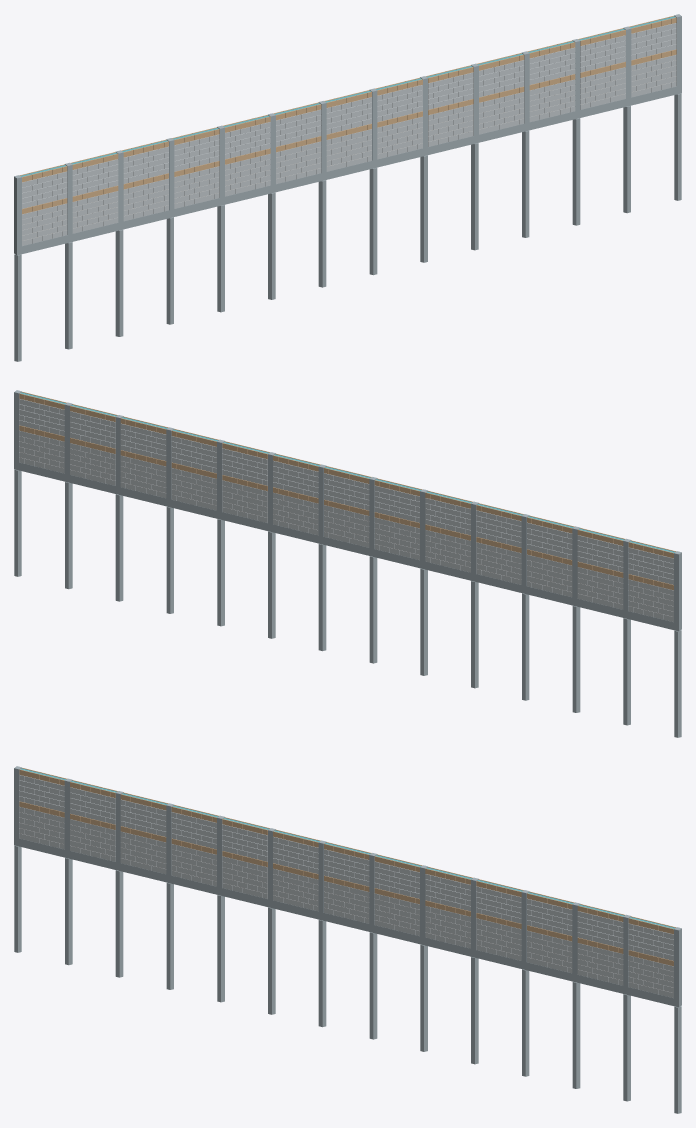
Rendered from muro-maquete.glb.
3 renders of one model, top to bottom at view 1: azimuth 30°, elevation 25°; view 2: azimuth 150°, elevation 25°; view 3: azimuth 330°, elevation 25°, orthographic.
Visible parts, largest first — view 1: blocks, piles, channels, columns, beam, grout, mortar; view 2: blocks, piles, channels, columns, beam, grout, mortar; view 3: blocks, piles, channels, columns, beam, grout, mortar.
Boxes of the visible parts, box(x1,y1,x2,y2) form: blocks: box(22, 23, 676, 245); piles: box(14, 93, 681, 361); channels: box(20, 15, 676, 214); columns: box(14, 14, 681, 247); beam: box(14, 85, 681, 255); grout: box(21, 16, 675, 176); mortar: box(22, 55, 675, 240); blocks: box(19, 399, 673, 621); piles: box(14, 469, 681, 737); channels: box(19, 391, 675, 590); columns: box(14, 390, 681, 623); beam: box(14, 461, 681, 631); grout: box(20, 392, 674, 552); mortar: box(20, 431, 673, 616); blocks: box(19, 775, 673, 997); piles: box(14, 845, 681, 1113); channels: box(19, 767, 675, 966); columns: box(14, 766, 681, 999); beam: box(14, 837, 681, 1007); grout: box(20, 768, 674, 928); mortar: box(20, 807, 673, 992).
Size of the model in its own units: 0.3287 by 0.0863 by 0.00325.
